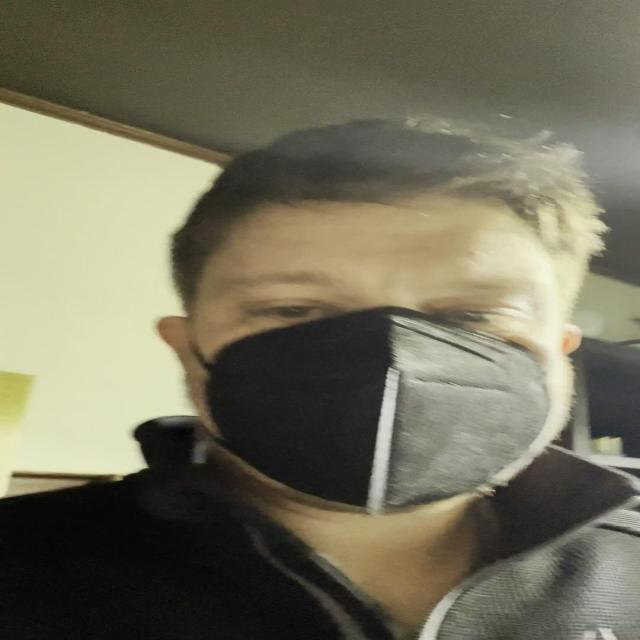no-helmet: (192, 197, 578, 511)
